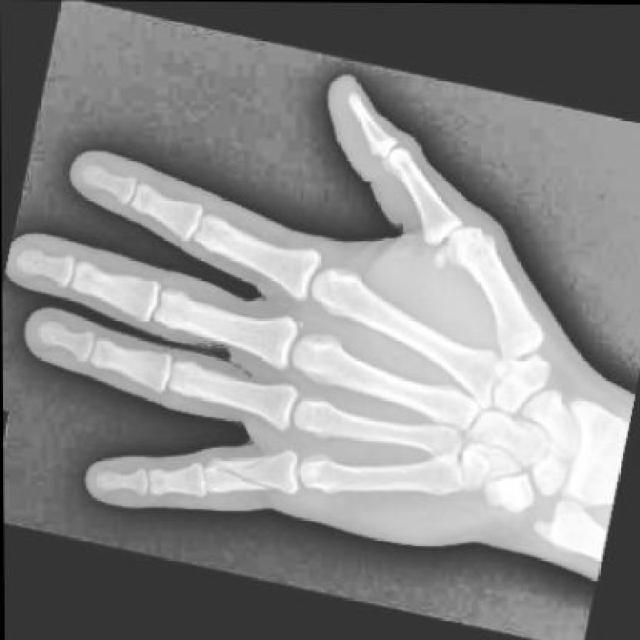Fracture: (202, 440, 286, 501)
